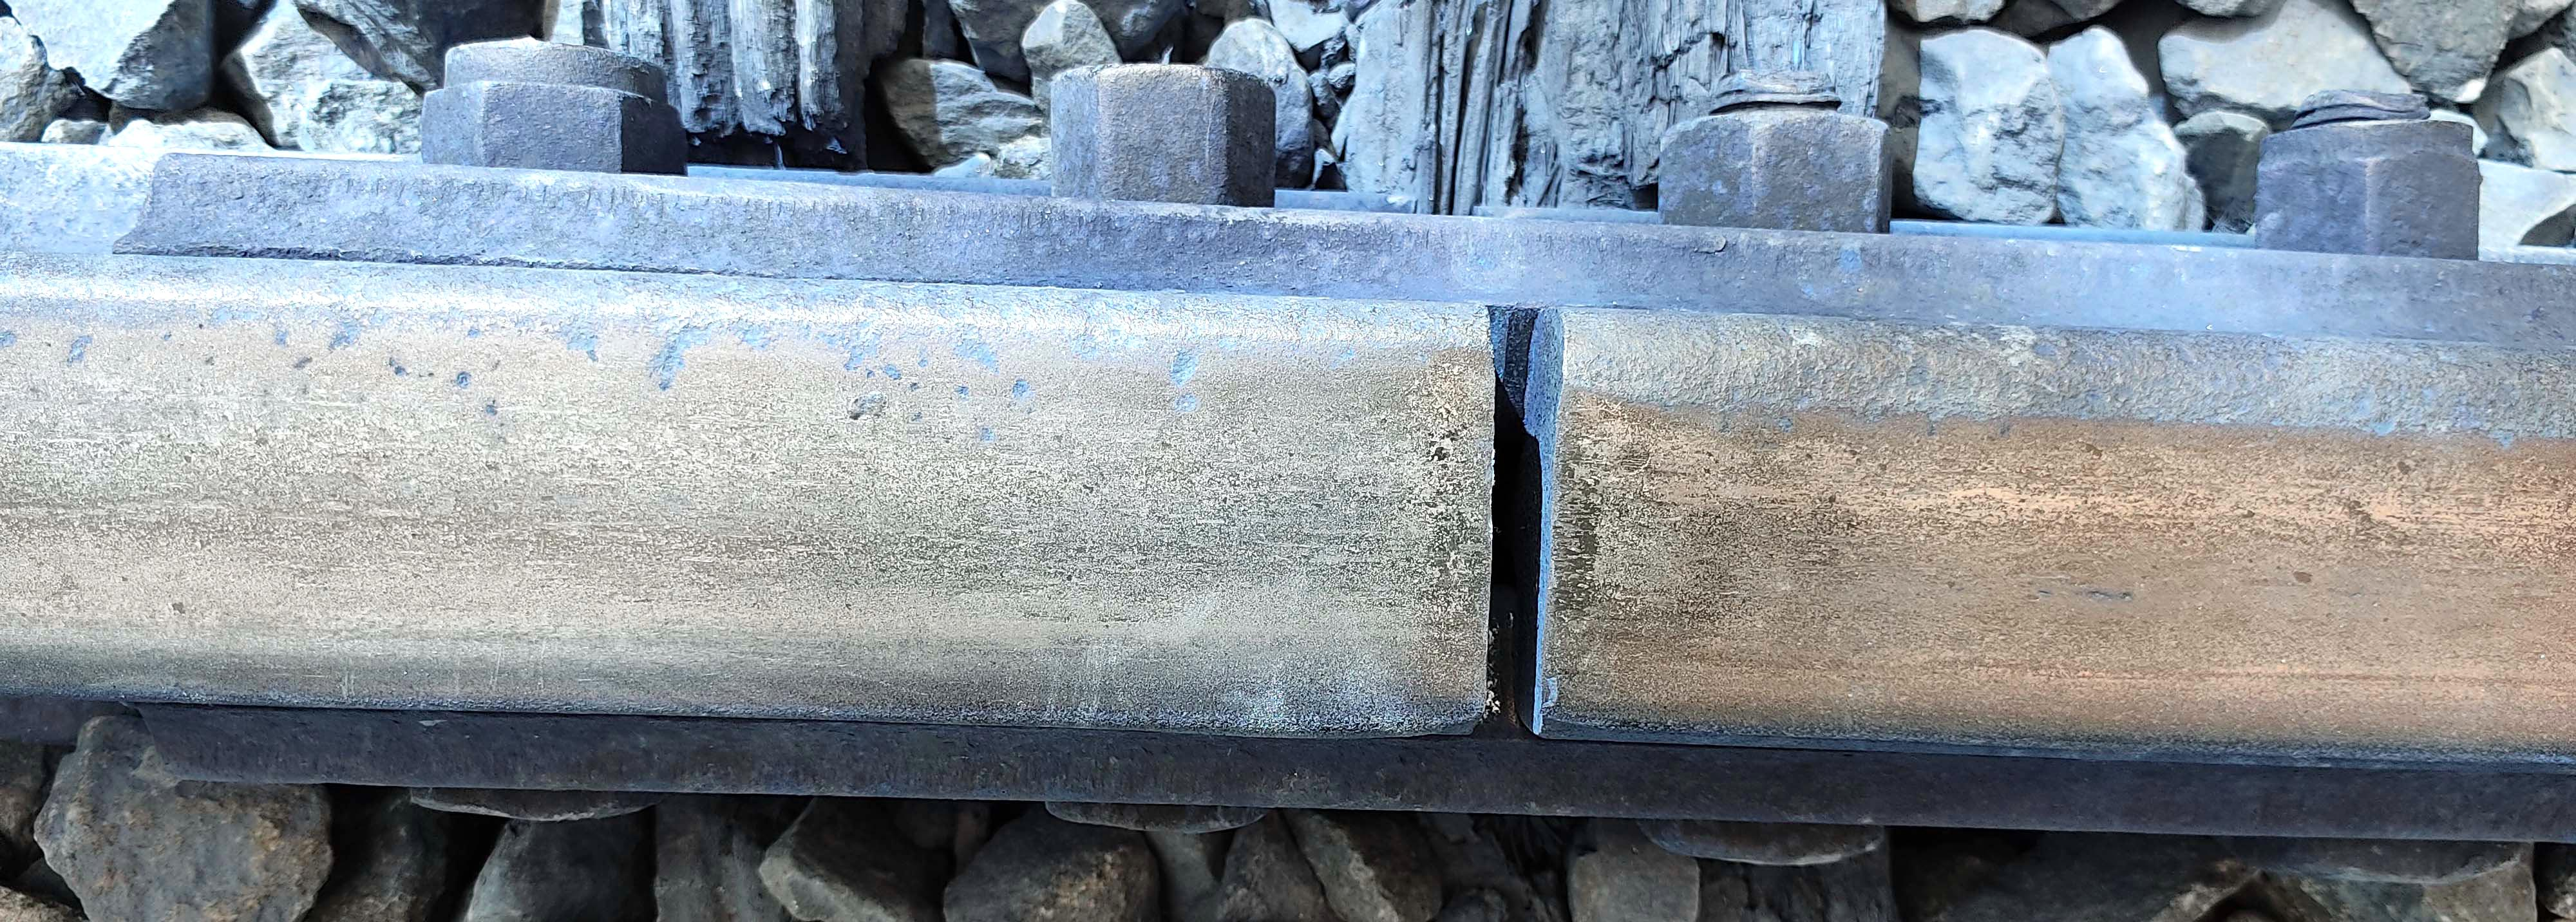error2: (1397, 230, 1701, 827)
